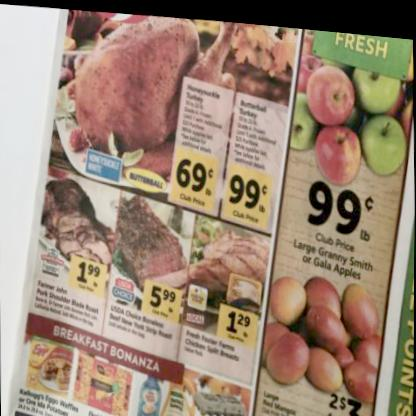Paper: (10, 7, 413, 416)
